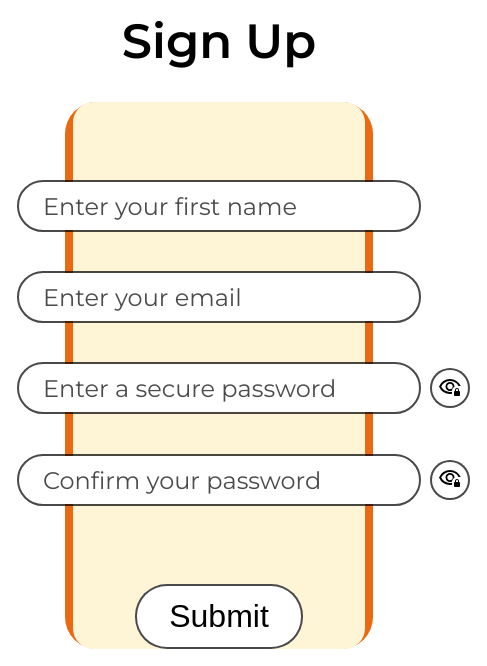
it: SignUp Form Validation › should validate email format
Type "invalid-email" into the field with test id "email" at (219,297), box top-left (19, 273), bottom-right (419, 321)
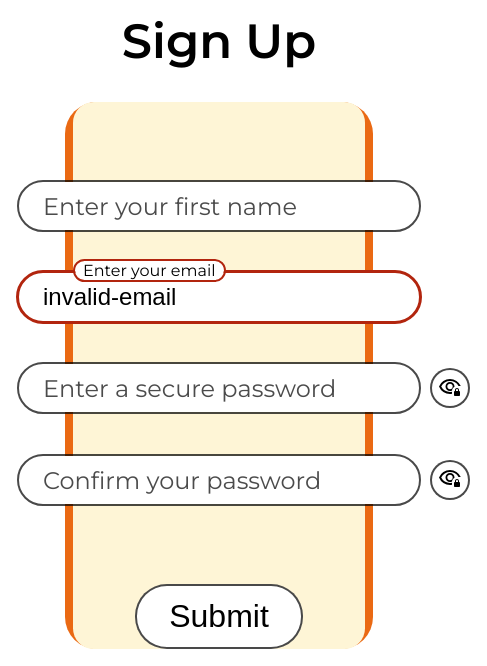
Click the button "Submit" at (219,616), box top-left (135, 584), bottom-right (303, 649)
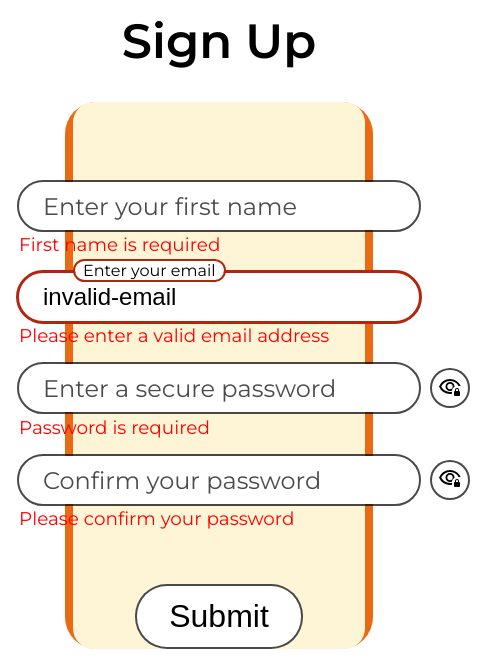
Result: the text "Please enter a valid email address" is shown at top-left (19, 324), bottom-right (329, 347)
